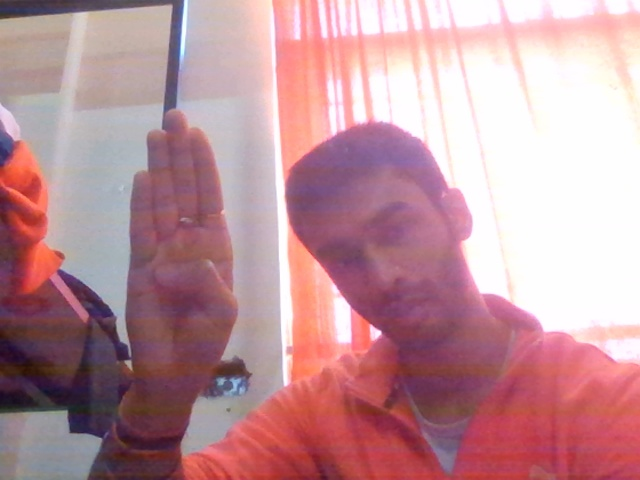B: (91, 107, 260, 416)
